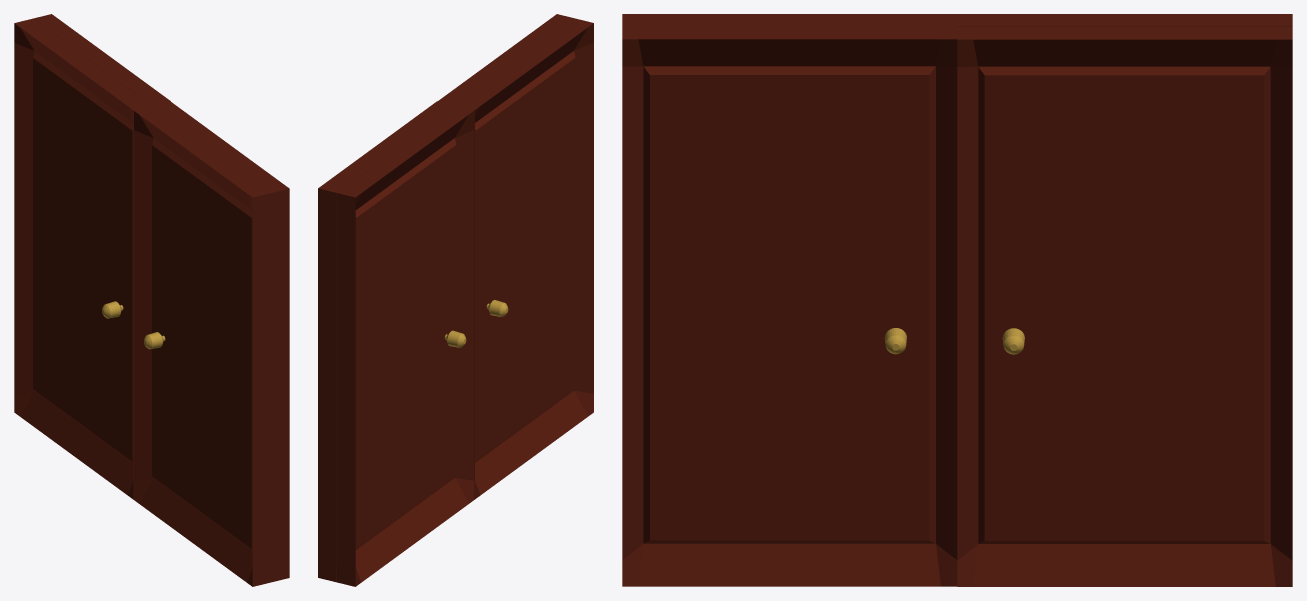
Rendered from Porte double 1.fbx.
3 renders of one model, left to right at view 1: azimuth 30°, elevation 25°; view 2: azimuth 150°, elevation 25°; view 3: azimuth 270°, elevation 25°, orthographic. The views are drawn at different scales.
Visible parts, largest first — view 1: Porte double droite, Porte gauche; view 2: Porte gauche, Porte double droite; view 3: Porte double droite, Porte gauche.
Boxes of the visible parts, x1,y1,x2,y2 form: Porte double droite: [133, 101, 289, 586]; Porte gauche: [14, 14, 170, 499]; Porte gauche: [318, 101, 474, 586]; Porte double droite: [438, 14, 593, 499]; Porte double droite: [622, 14, 957, 586]; Porte gauche: [957, 14, 1292, 586].
Bounding box in the file's own units: 95.11 × 610 × 677.
